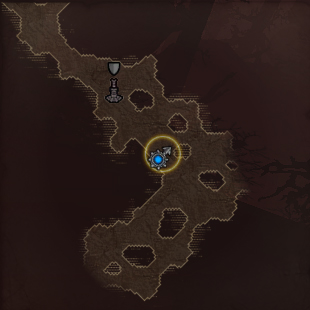Guardian2: (143, 133, 181, 174)
